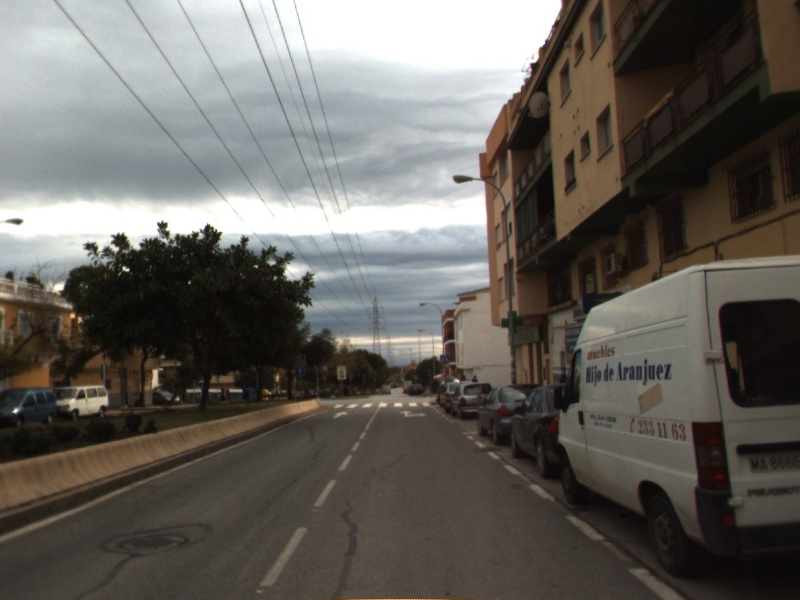STRAIGHT: (330, 410, 350, 421)
STRAIGHT_RIGHT: (397, 408, 429, 419)
